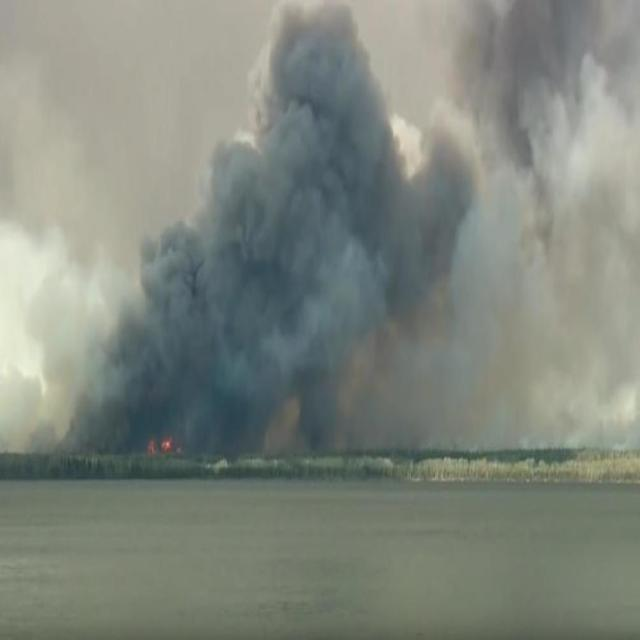Fire: (148, 434, 172, 454)
Smoke: (217, 0, 640, 453), (53, 194, 214, 460)
